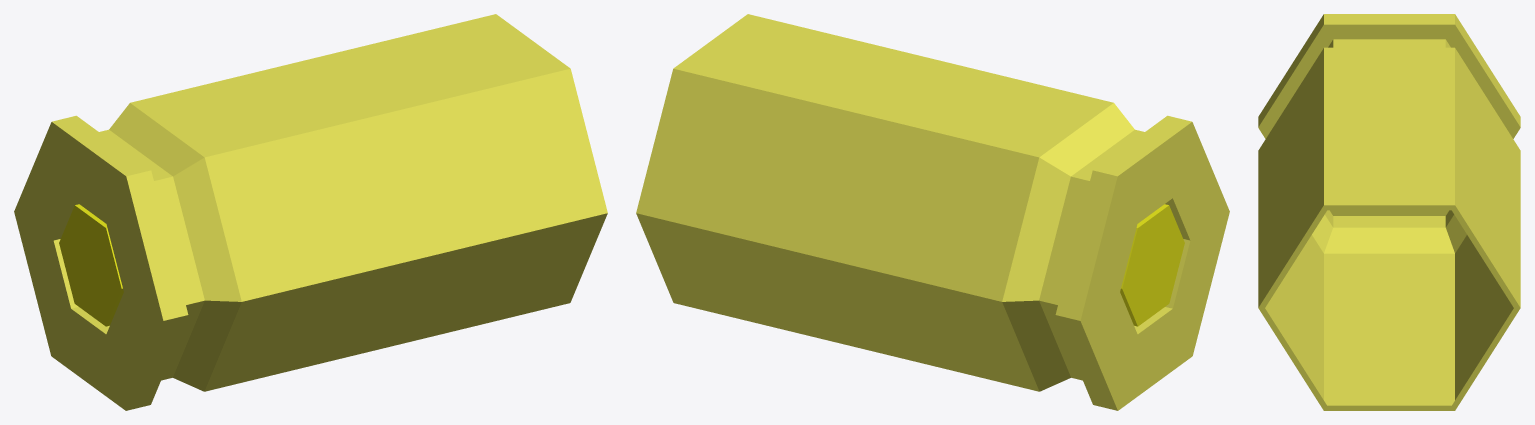
The model's file is amshel.fbx.
3 renders of one model, left to right at view 1: azimuth 30°, elevation 25°; view 2: azimuth 150°, elevation 25°; view 3: azimuth 270°, elevation 25°, orthographic. The views are drawn at different scales.
Parts seen in each view (by area): view 1: Cube.020; view 2: Cube.020; view 3: Cube.020.
Boxes of the visible parts, x1,y1,x2,y2 form: Cube.020: [14, 14, 607, 410]; Cube.020: [636, 14, 1229, 410]; Cube.020: [1258, 14, 1520, 410].
Size of the model in its own units: 868 by 438 by 505.
